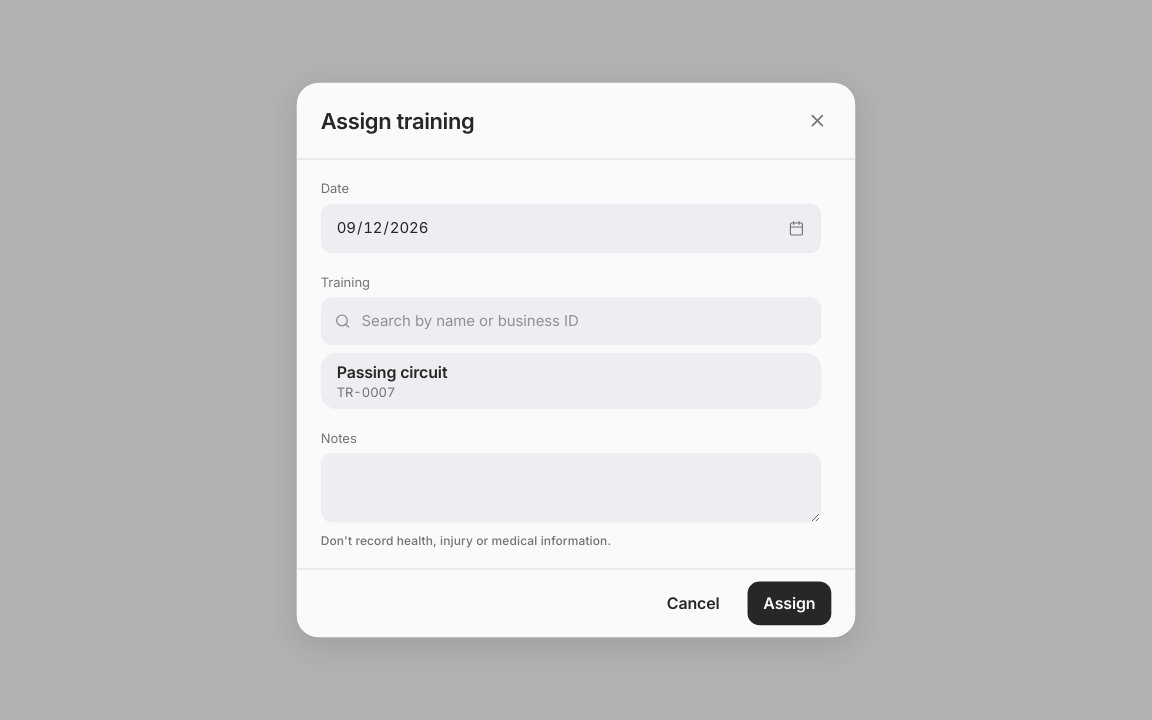
Test: AssignTrainingDialog › shows the selected training's exercises, expandable to their full description
Click the radio button labelled "Passing circuit TR-0007" at (392, 381), box top-left (336, 362), bottom-right (447, 400)
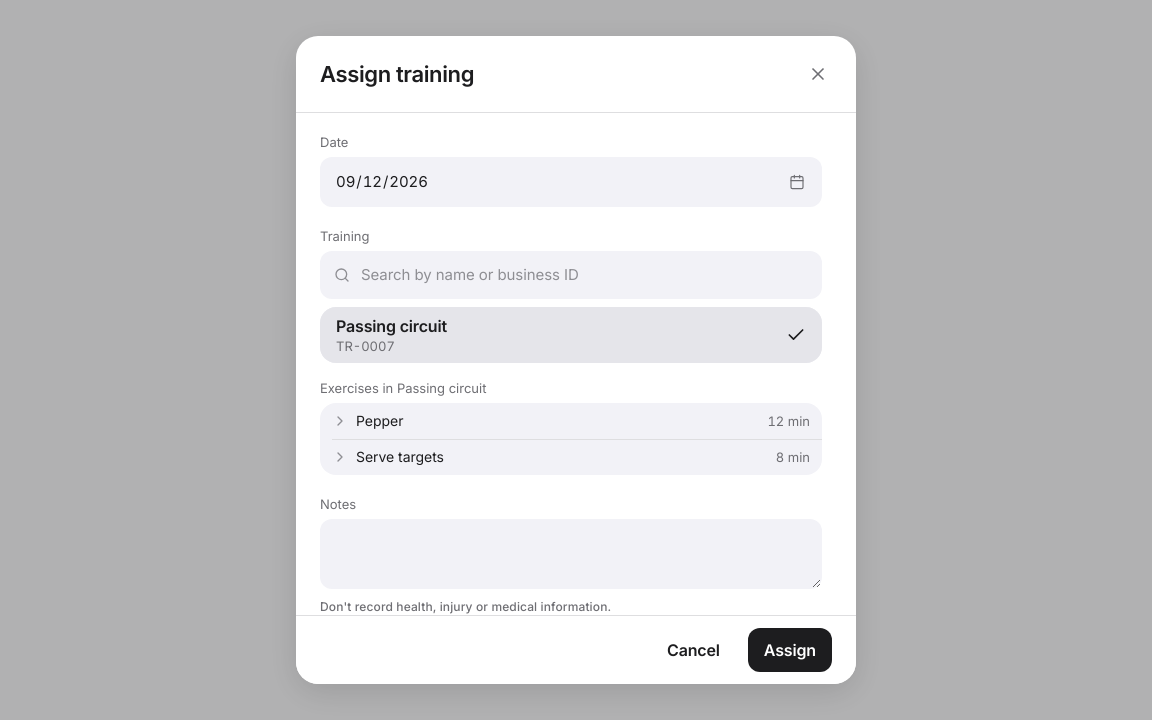
Expected: the text "Two players, controlled rally." is not shown
Expected: the text "Pepper" is shown, top-left (356, 412), bottom-right (403, 429)
Expected: the text "Serve targets" is shown, top-left (356, 448), bottom-right (444, 465)
Click the button named "Expand Pepper" at (340, 421), box top-left (332, 413), bottom-right (348, 429)
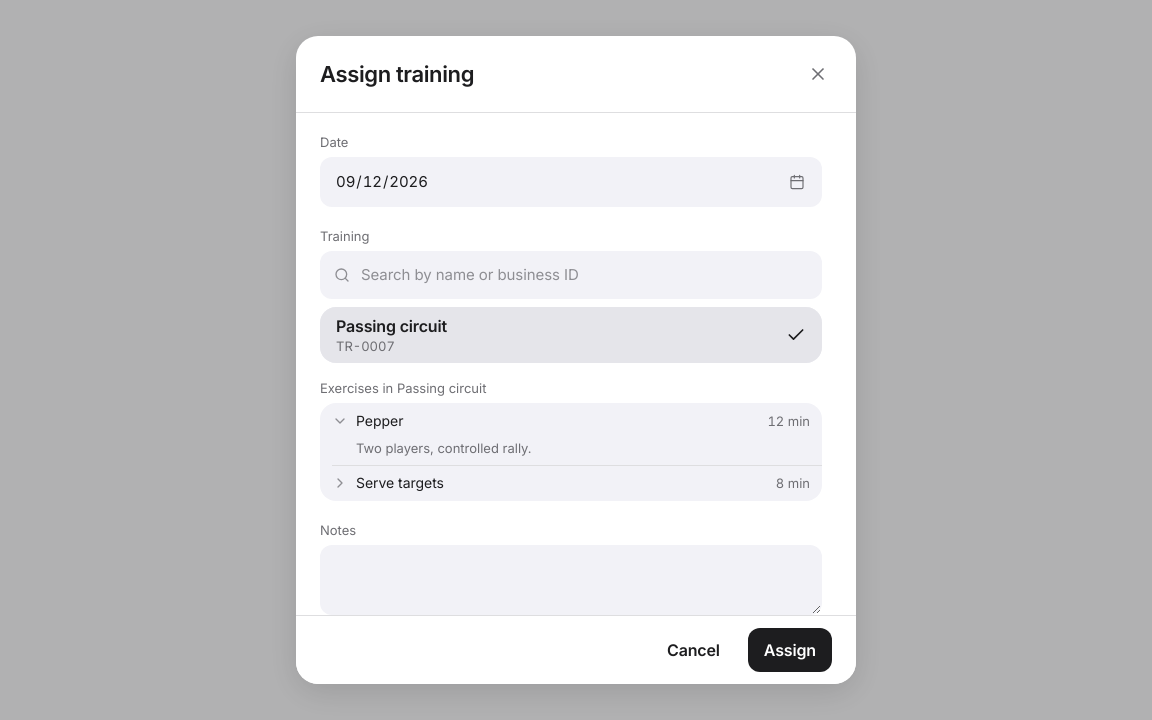
Expected: the text "Two players, controlled rally." is shown, top-left (356, 440), bottom-right (532, 456)
